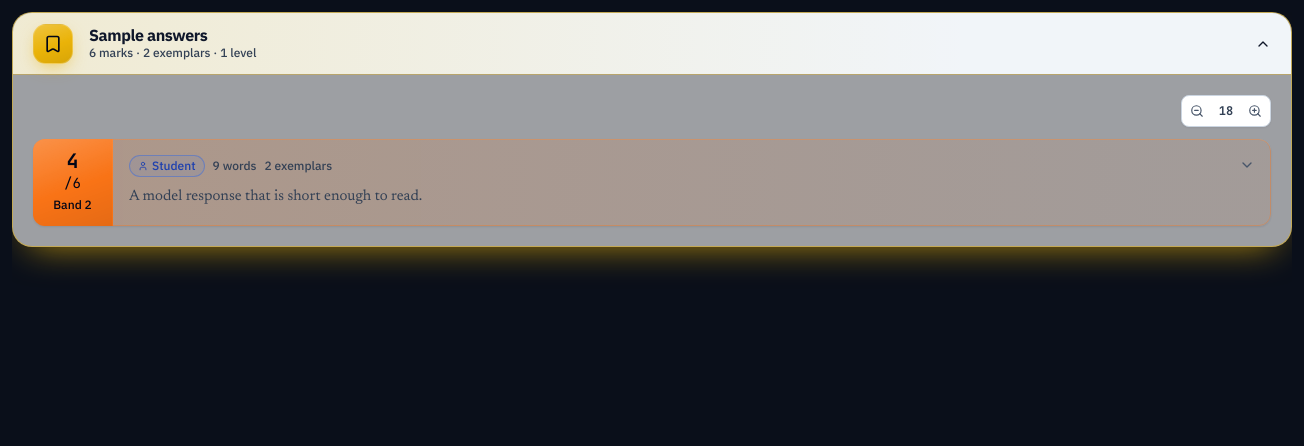
the disclosure is the whole of a shut row › steps the carousel beside the disclosure without toggling the row
Click the button that starts with "Student".
click(180, 166)  # box [113,139,1271,226]
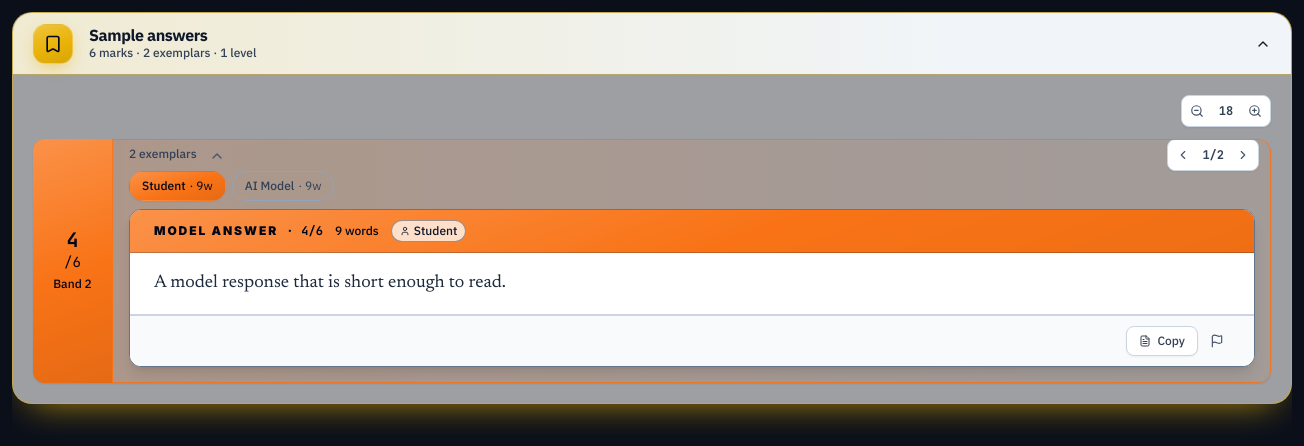
Check: the text "1/2" is shown, box [1202,147,1224,163]
Click the button named "next sample".
click(1243, 155)  # box [1230,142,1256,168]
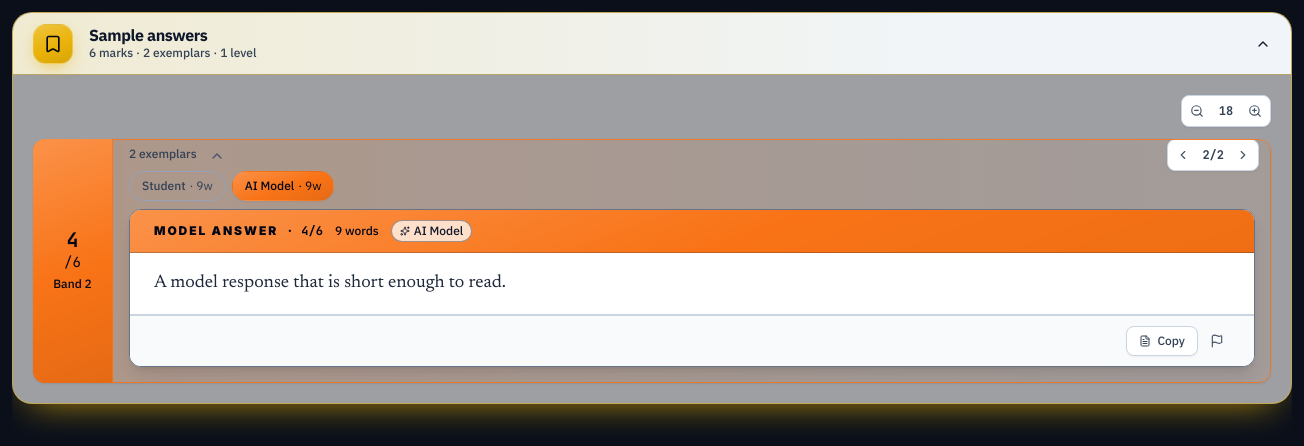
Check: the text "2/2" is shown, box [1202,147,1224,163]
Click the button named "previous sample".
click(1183, 155)  # box [1170,142,1196,168]
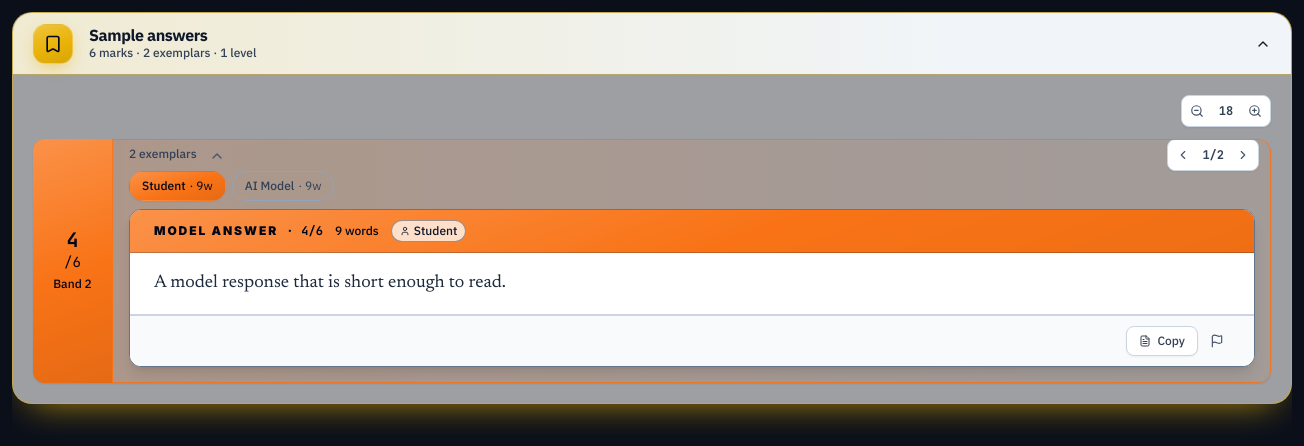
Check: the text "1/2" is shown, box [1202,147,1224,163]
